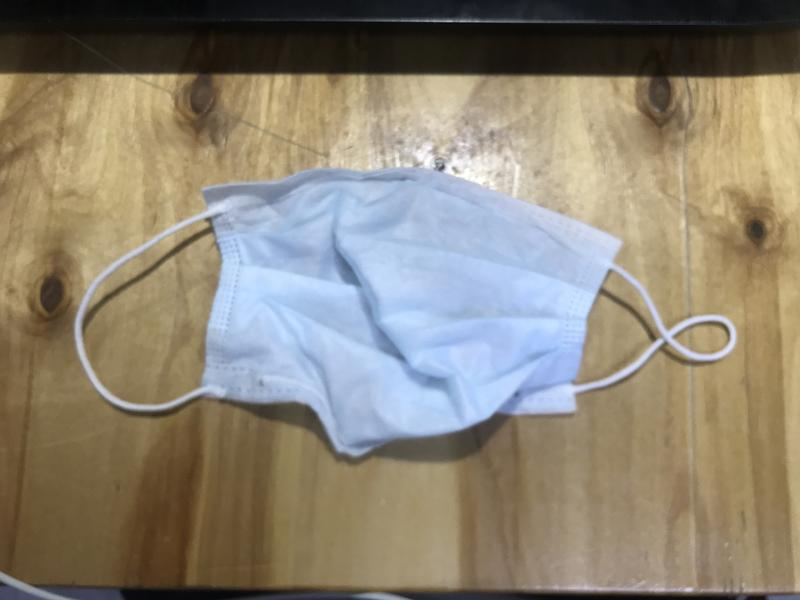medical_mask: (75, 171, 738, 453)
